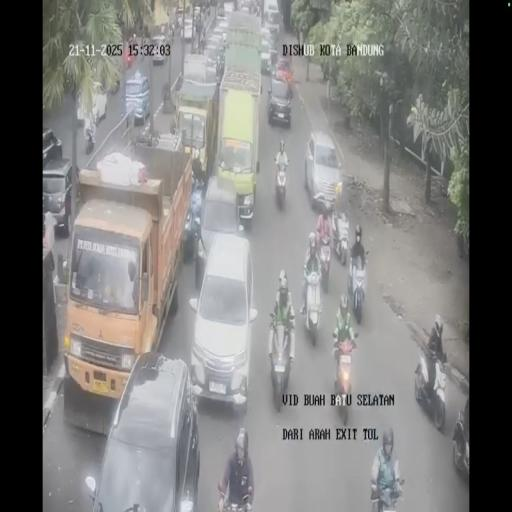3: (173, 59, 219, 181)
car: (90, 354, 198, 509), (196, 173, 242, 272), (304, 131, 343, 210), (42, 157, 74, 237), (267, 69, 293, 126), (76, 81, 108, 127), (125, 72, 151, 124), (203, 40, 225, 80), (42, 128, 62, 165), (150, 33, 170, 64), (263, 0, 280, 33), (107, 54, 121, 94), (260, 32, 271, 73), (214, 16, 230, 41), (175, 6, 187, 29), (192, 6, 202, 26), (222, 0, 235, 15), (269, 46, 278, 67), (240, 0, 252, 14)
truck: (414, 342, 446, 430), (267, 312, 294, 409), (331, 338, 357, 424), (300, 267, 324, 345), (347, 254, 369, 323), (316, 233, 334, 288), (273, 157, 289, 209), (336, 226, 348, 265), (169, 24, 175, 44)
